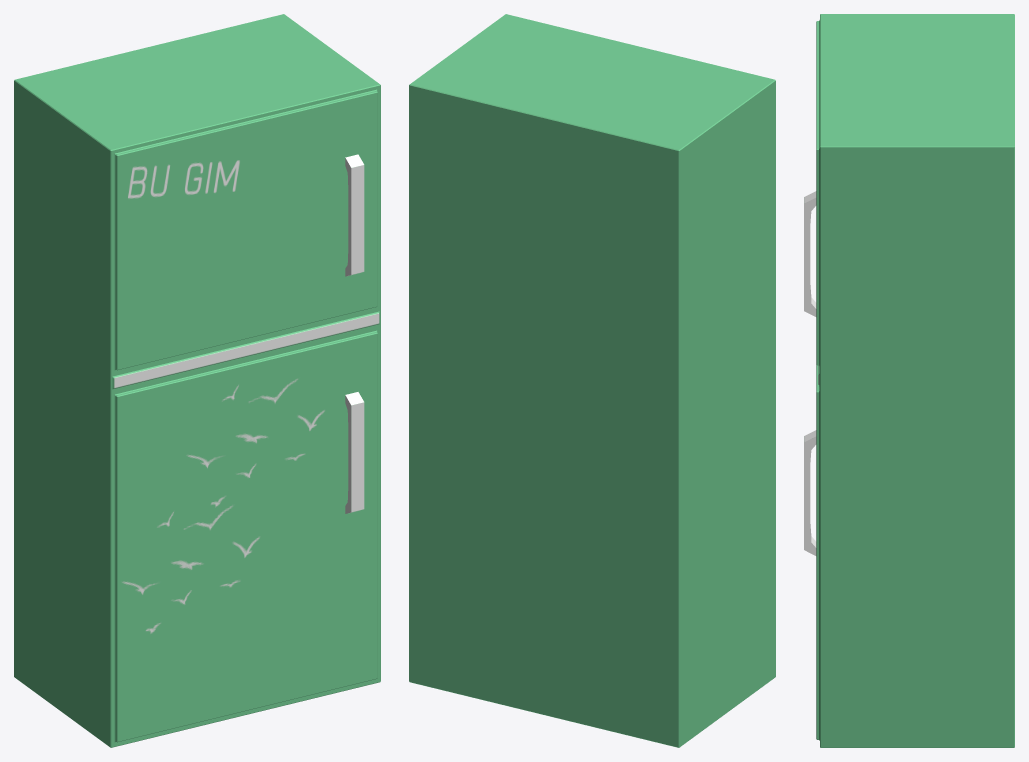
Rendered from refrigerator.fbx.
The picture shows the model from 3 angles, left to right: view 1: azimuth 30°, elevation 25°; view 2: azimuth 150°, elevation 25°; view 3: azimuth 270°, elevation 25°; orthographic projection.
Visible parts, largest first — view 1: Cube.001; view 2: Cube.001; view 3: Cube.001.
Boxes of the visible parts, x1,y1,x2,y2 form: Cube.001: (14,14,380,747); Cube.001: (409,14,775,747); Cube.001: (804,14,1014,747).
Bounding box in the file's own units: 3.22 × 6.81 × 2.16.
Materials: 1 (1 with a texture image).
